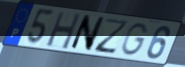5: (25, 7, 56, 47)
6: (146, 24, 172, 61)
G: (119, 22, 150, 57)
H: (44, 11, 82, 51)
N: (68, 13, 107, 53)
Z: (93, 17, 130, 56)
